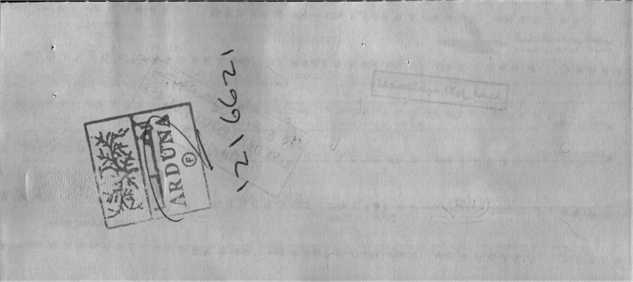stamp: (82, 101, 215, 230)
